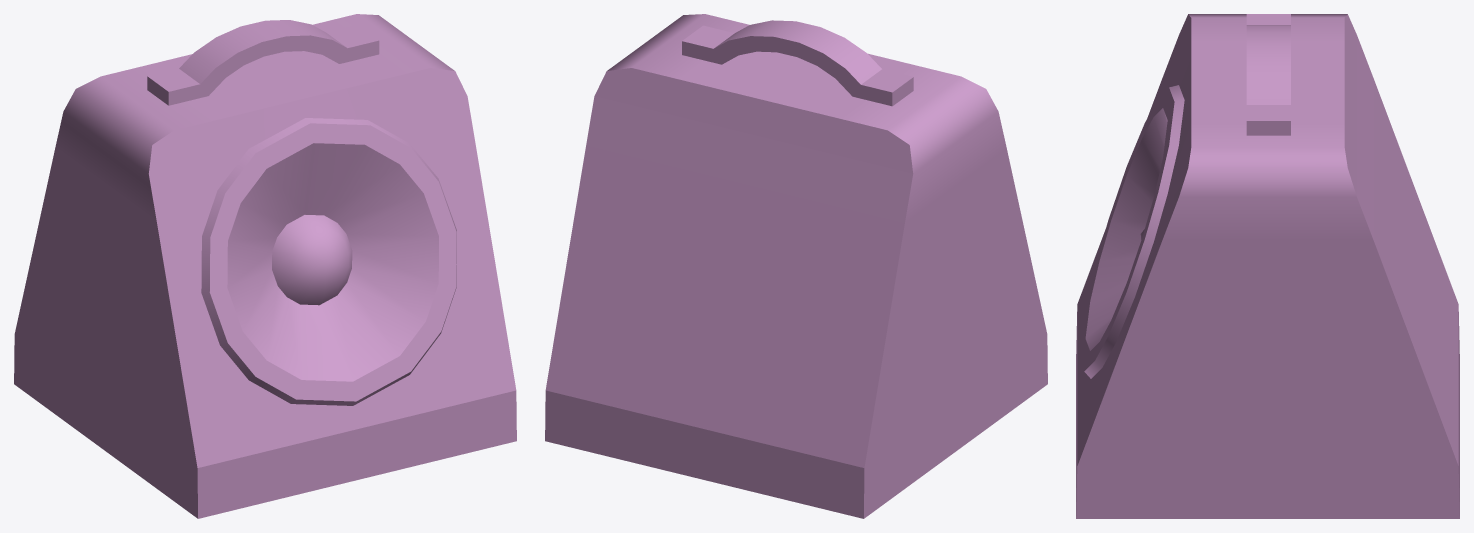
The model's file is speaker.glb.
3 views of the same model, side by side, from view 1: azimuth 30°, elevation 25°; view 2: azimuth 150°, elevation 25°; view 3: azimuth 270°, elevation 25° (orthographic). The views are drawn at different scales.
Visible parts, largest first — view 1: speaker; view 2: speaker; view 3: speaker.
Boxes of the visible parts, <box> form: speaker: <box>14,14,516,518</box>; speaker: <box>545,14,1047,518</box>; speaker: <box>1076,14,1459,518</box>.
Size of the model in its own units: 0.9 by 1.03 by 0.9001.
